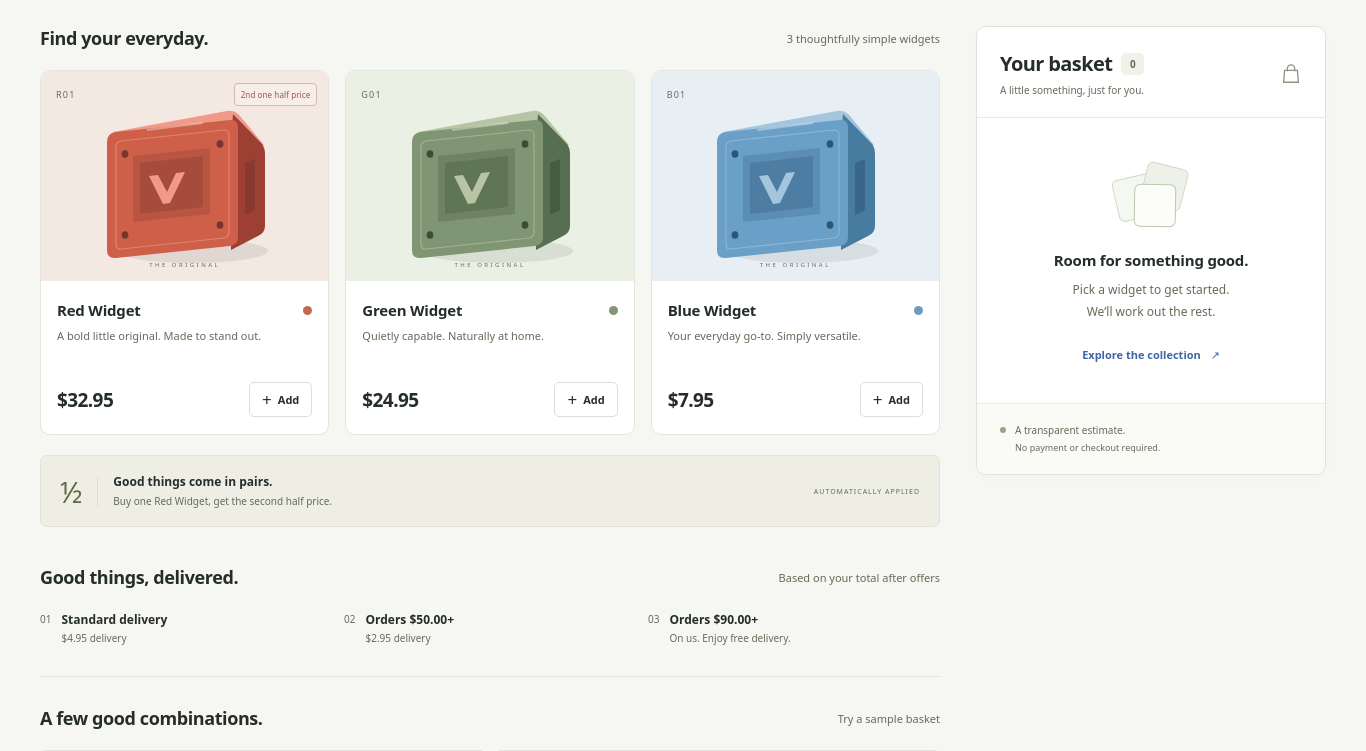
Test case: storefront › shows a loading estimate without inventing totals
The width and height of the screenshot is (1366, 751).
(page scrolled)
Expected: the heading "Find your everyday." is shown, [40,26,208,50]
Step 1. Click the button with aria-label "Add Red Widget to basket" → coordinates (281, 400), box [249,382,312,417]
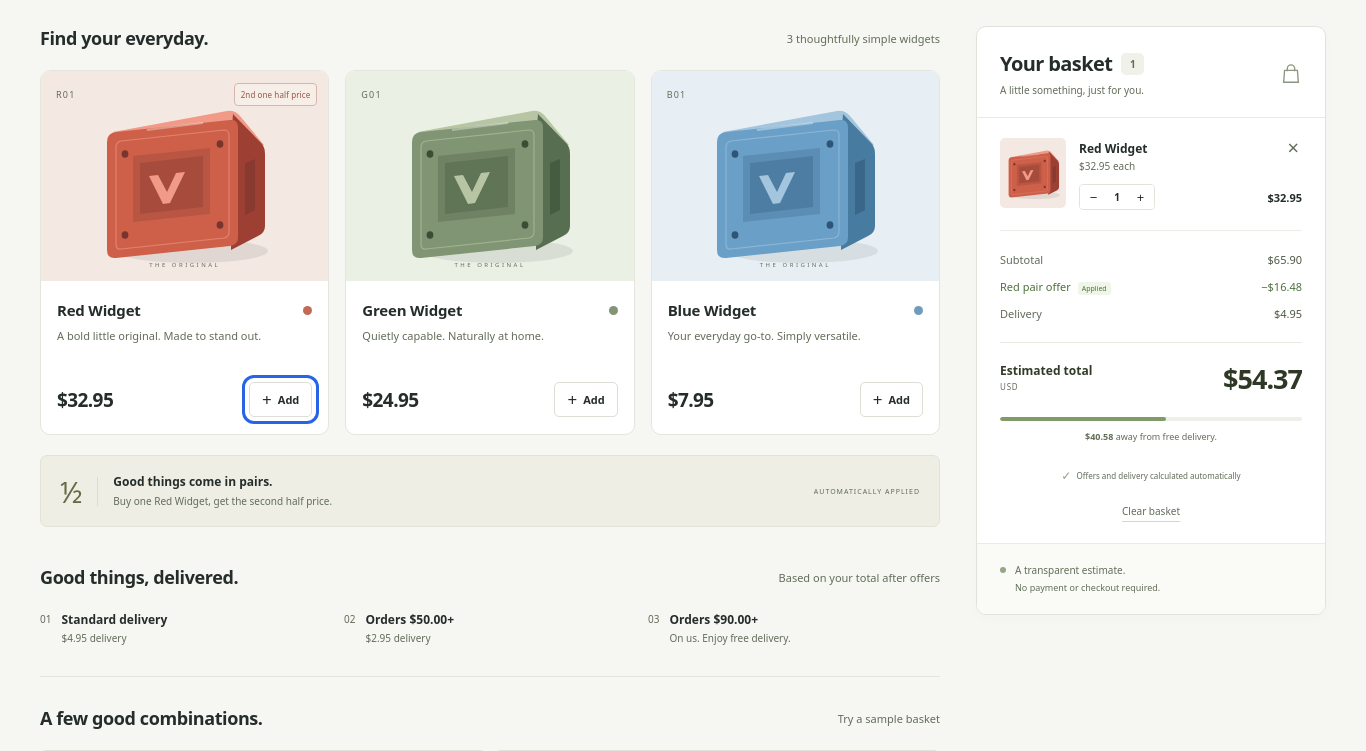
Expected: the text "Updating your estimate…" is shown, [977,231,1325,484]
Expected: the text with test id "quote-total" reads "$54.37", [1223,360,1302,397]
